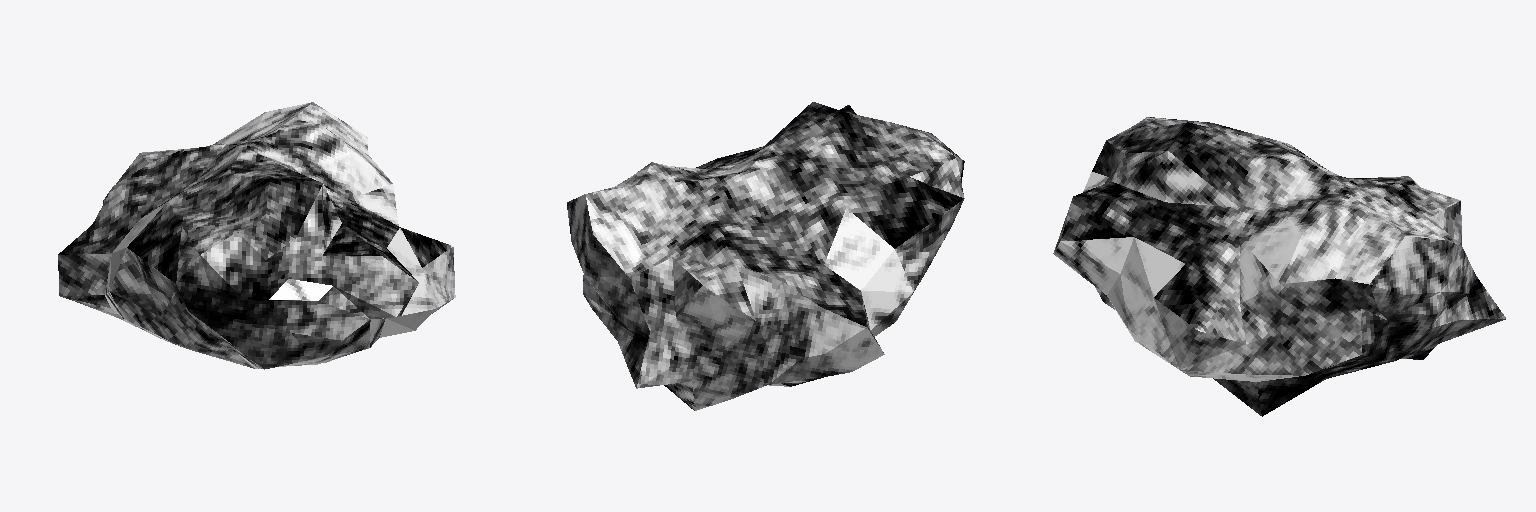
The picture shows the model from 3 angles: view 1: azimuth 30°, elevation 25°; view 2: azimuth 150°, elevation 25°; view 3: azimuth 270°, elevation 25°; orthographic projection.
Parts seen in each view (by area): view 1: rock; view 2: rock; view 3: rock.
Boxes of the visible parts, box(x1,y1,x2,y2) form: rock: box(58, 102, 455, 369); rock: box(567, 102, 964, 410); rock: box(1053, 117, 1505, 416).
Bounding box in the file's own units: 1.61 × 1.15 × 2.02.
Materials: 1 (1 with a texture image).